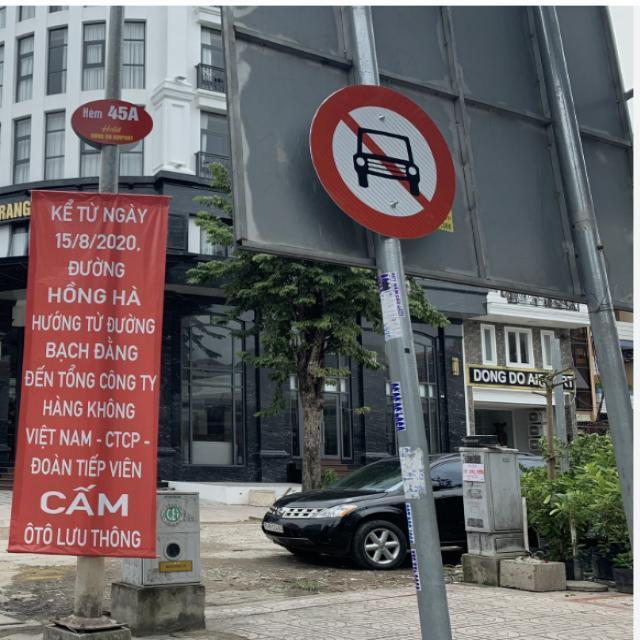103a-cam-oto: (308, 85, 460, 238)
